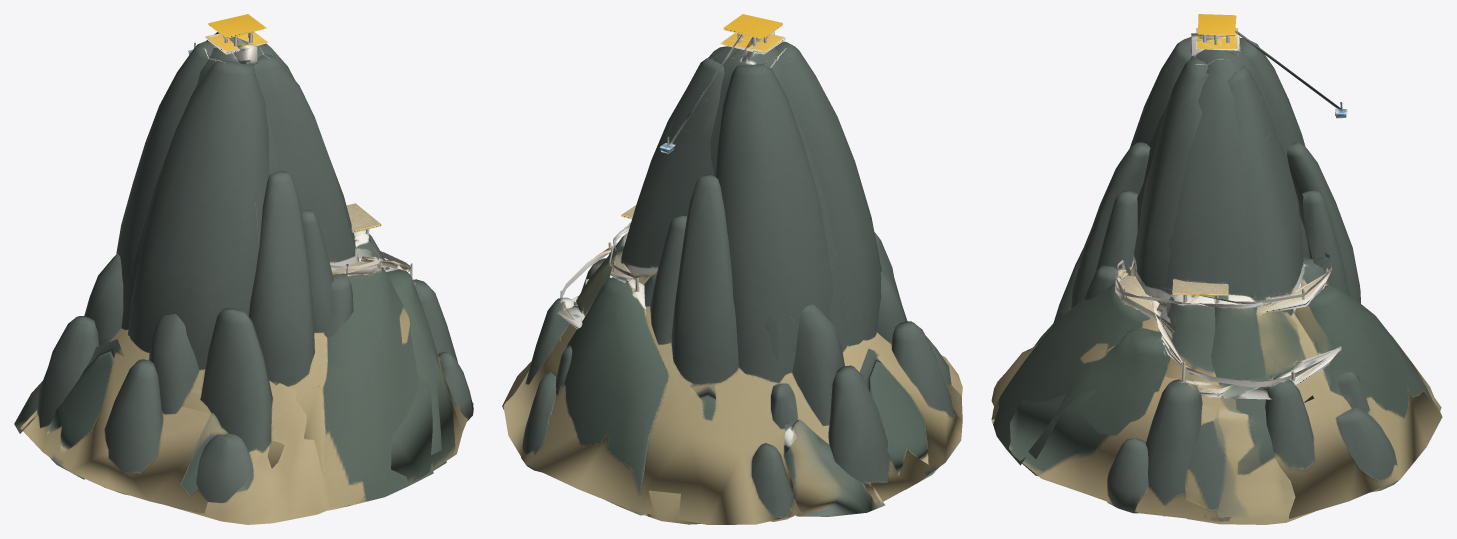
File: hero_landmark.glb
3 renders of one model, left to right at view 1: azimuth 30°, elevation 25°; view 2: azimuth 150°, elevation 25°; view 3: azimuth 270°, elevation 25°, orthographic. The views are drawn at different scales.
Bounding box in the file's own units: 1 × 0.9707 × 1.
1 material, 1 textured.
